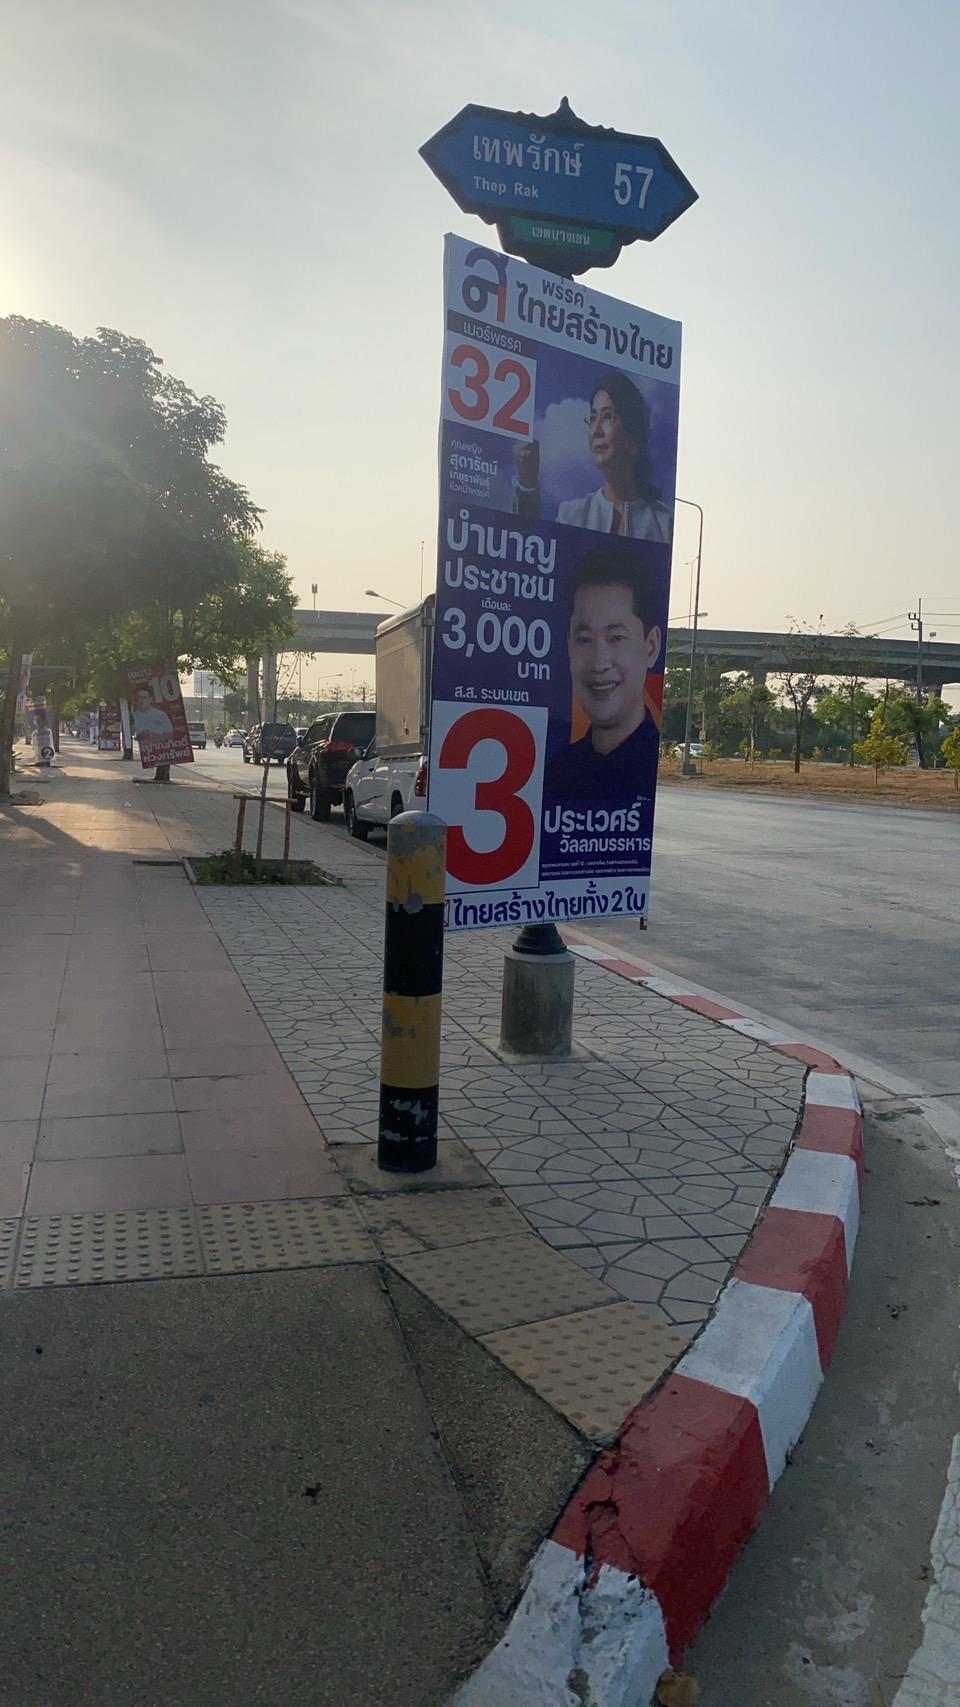Banner: (449, 234, 670, 944)
